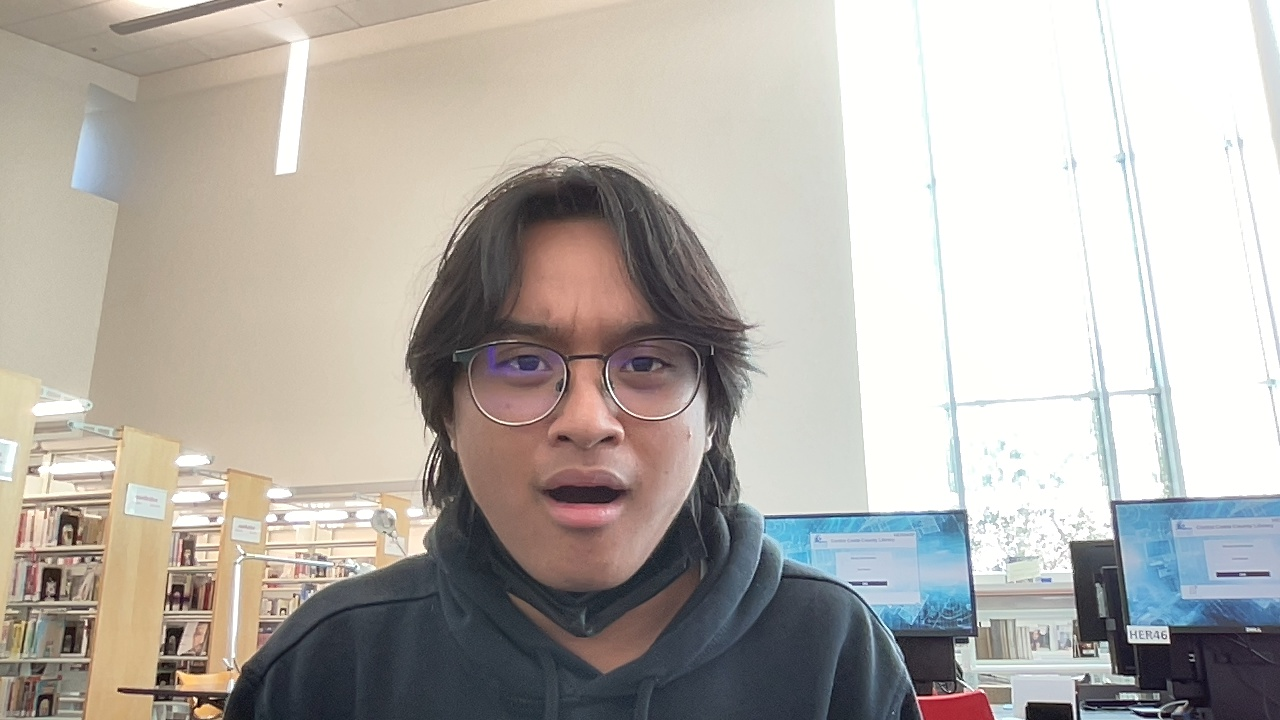fear: (446, 214, 718, 592)
